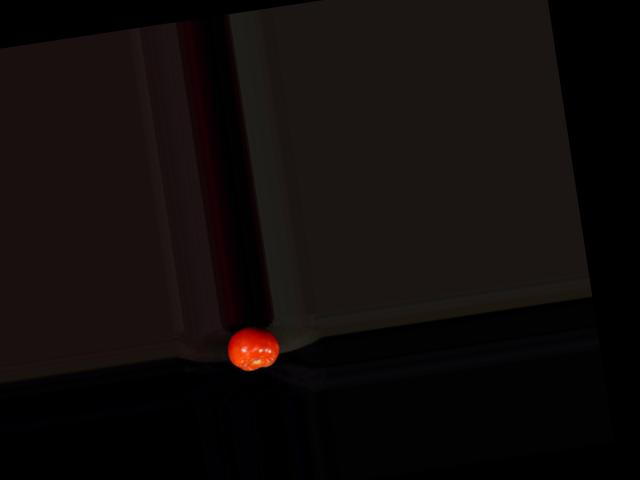tomato: (223, 323, 281, 373)
